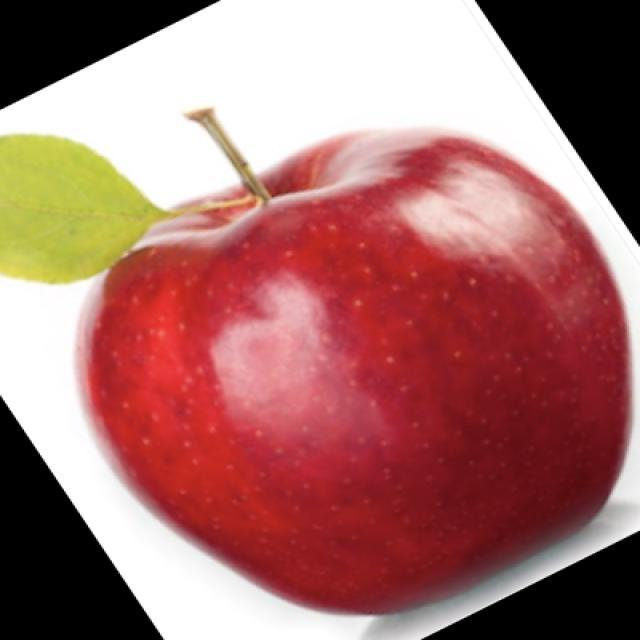Apple: (73, 107, 633, 617)
